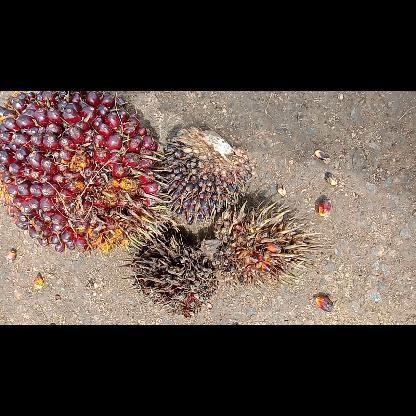TBS abnormal: (212, 200, 317, 288), (157, 126, 251, 223), (130, 226, 220, 318)
TBS masak: (2, 92, 160, 254)
